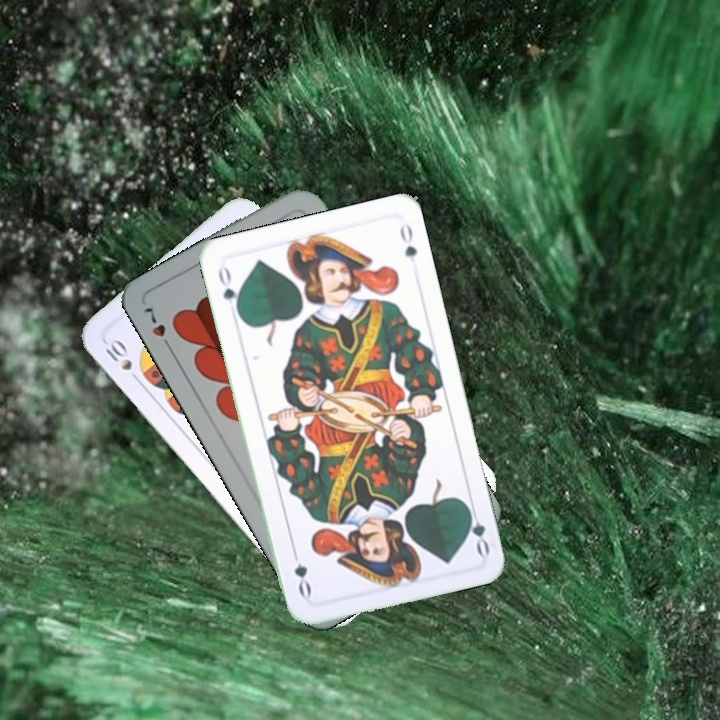GO: (462, 499, 493, 558), (214, 261, 243, 318)
H7: (139, 303, 176, 355)
S10: (101, 334, 144, 386)
